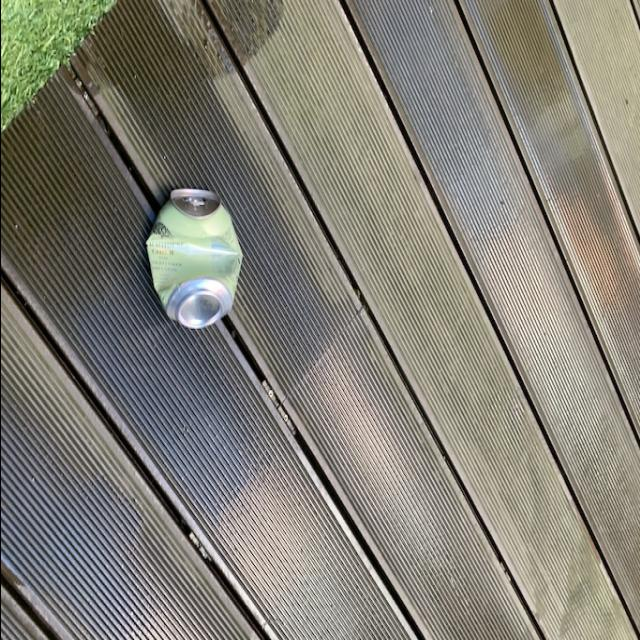Aluminum Can: (134, 192, 244, 344)
